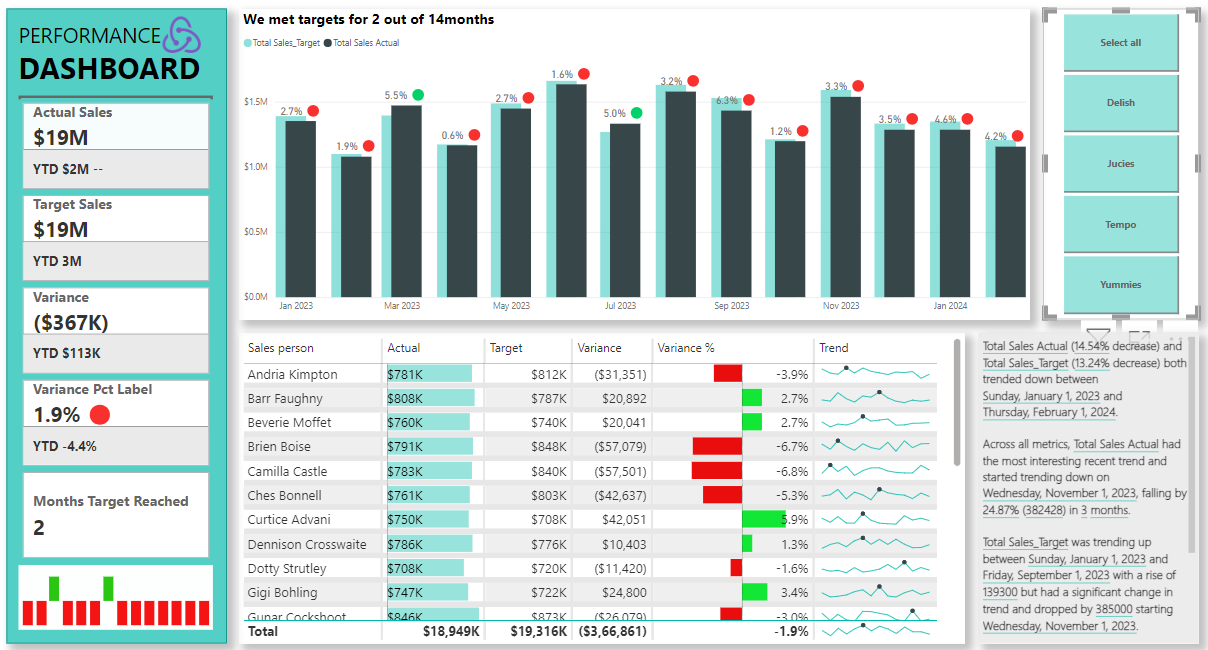

The page's visual inventory and layout, read from the dashboard file:
{"tool":"powerbi","page":{"name":"Page 1","canvas":[1500,815],"ordinal":0},"visuals":[{"type":"shape","box":[16,16,272,784],"z":0},{"type":"cardVisual","fields":{"Data":["Actual.Total Sales Actual","Targets.Total Sales_Target","Actual.Variance","Actual.Variance Pct Label","Actual.Months Target Reached"]},"box":[32,128,240,576],"z":1000},{"type":"clusteredColumnChart","fields":{"Y":["Actual.Target Status"],"Category":["Calendar.Date"]},"box":[32,704,240,80],"z":2000},{"type":"clusteredColumnChart","fields":{"Y":["Targets.Total Sales_Target","Actual.Total Sales Actual"],"Category":["Calendar.Date"]},"box":[304,16,976,384],"z":3000},{"type":"tableEx","fields":{"Values":["dimPeople.Sales person","Actual.Total Sales Actual","Targets.Total Sales_Target","Actual.Variance","Actual.Variance %","SparklineData(Actual.Total Sales Actual_[Calendar.Date])"]},"box":[304,416,896,384],"z":4000},{"type":"slicer","fields":{"Values":["dimPeople.Team"]},"box":[1296,16,192,384],"z":5000},{"type":"textbox","box":[1216,416,272,384],"z":5001},{"type":"actionButton","title":"PERFORMANCE","box":[32,32,176,32],"z":5002},{"type":"actionButton","title":"DASHBOARD","box":[32,64,240,64],"z":5003},{"type":"image","box":[192,16,80,64],"z":5004}]}

Visuals, with their boxes in screenshot pixels (x1, y1, x2, y2), scaled from the page's 1500x815 canvas onto the 1208x650 screenshot:
shape: detection(13, 13, 232, 638)
cardVisual - Actual.Total Sales Actual x Targets.Total Sales_Target: detection(26, 102, 219, 561)
clusteredColumnChart - Actual.Target Status x Calendar.Date: detection(26, 561, 219, 625)
clusteredColumnChart - Targets.Total Sales_Target x Actual.Total Sales Actual: detection(245, 13, 1031, 319)
tableEx - dimPeople.Sales person x Actual.Total Sales Actual: detection(245, 332, 966, 638)
slicer - dimPeople.Team: detection(1044, 13, 1198, 319)
textbox: detection(979, 332, 1198, 638)
"PERFORMANCE" actionButton: detection(26, 26, 168, 51)
"DASHBOARD" actionButton: detection(26, 51, 219, 102)
image: detection(155, 13, 219, 64)
